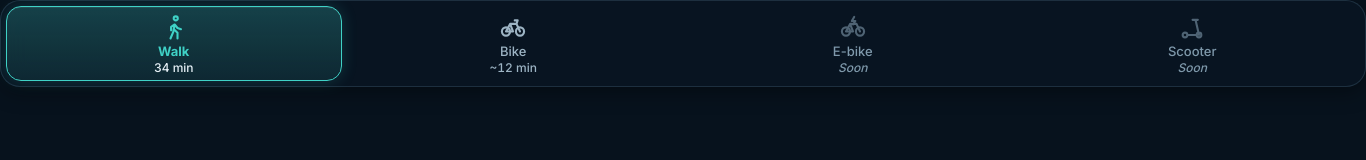
it: ModeTabs › shows Walk · Bike · E-bike · Scooter with durations; unavailable modes are disabled, not hidden
Expected: the button "Walk 34 min" is shown, [6,6,342,81]
Click the button "Bike ~12 min".
click(513, 44)  # box [346,6,681,81]
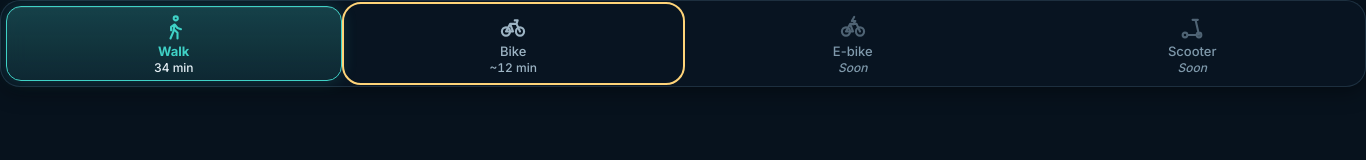
Click the button "Scooter Soon".
click(1192, 44)  # box [1024,6,1360,81]
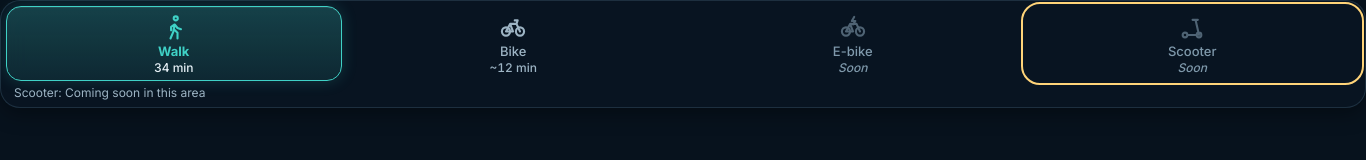
Result: the message reads "Scooter: Coming soon in this area" at [14,85,205,100]
